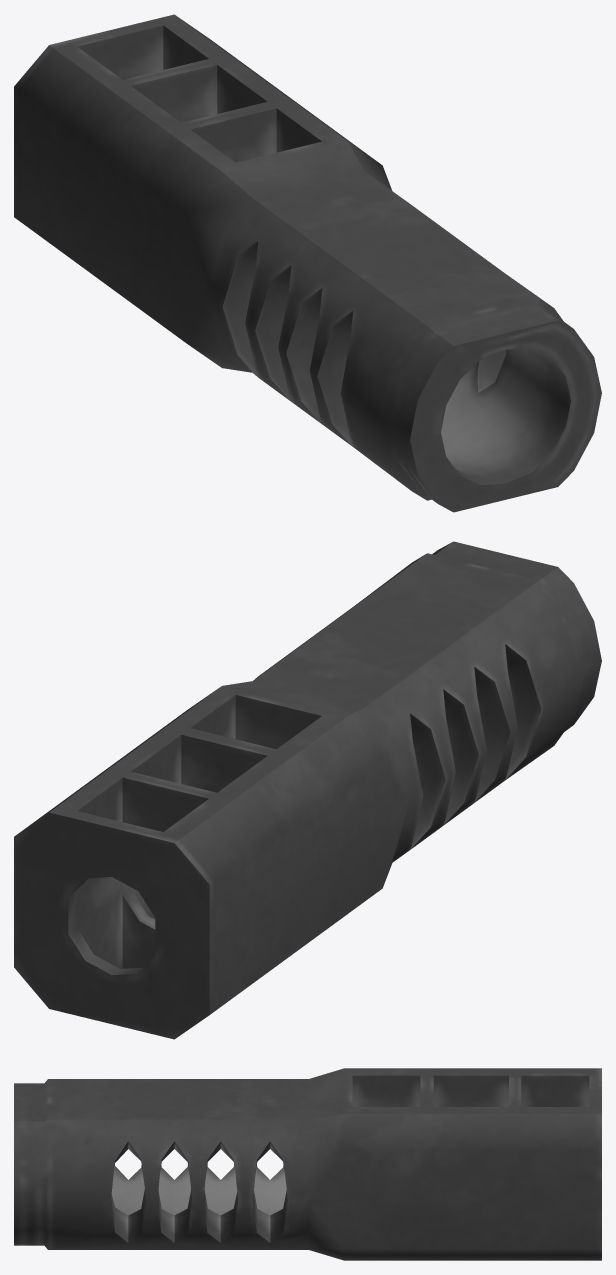
File: IG_Acc_Muzzle_SHT_SCA_3.fbx
The picture shows the model from 3 angles, top to bottom: view 1: azimuth 30°, elevation 25°; view 2: azimuth 150°, elevation 25°; view 3: azimuth 270°, elevation 25°; orthographic projection. The views are drawn at different scales.
Parts seen in each view (by area): view 1: Muzzle_SHT_SCA_3; view 2: Muzzle_SHT_SCA_3; view 3: Muzzle_SHT_SCA_3.
Boxes of the visible parts, x1=… form: Muzzle_SHT_SCA_3: x1=14, y1=14, x2=601, y2=512; Muzzle_SHT_SCA_3: x1=14, y1=541, x2=601, y2=1039; Muzzle_SHT_SCA_3: x1=14, y1=1068, x2=601, y2=1260.
Bounding box in the file's own units: 0.0584 × 0.0546 × 0.1987.
